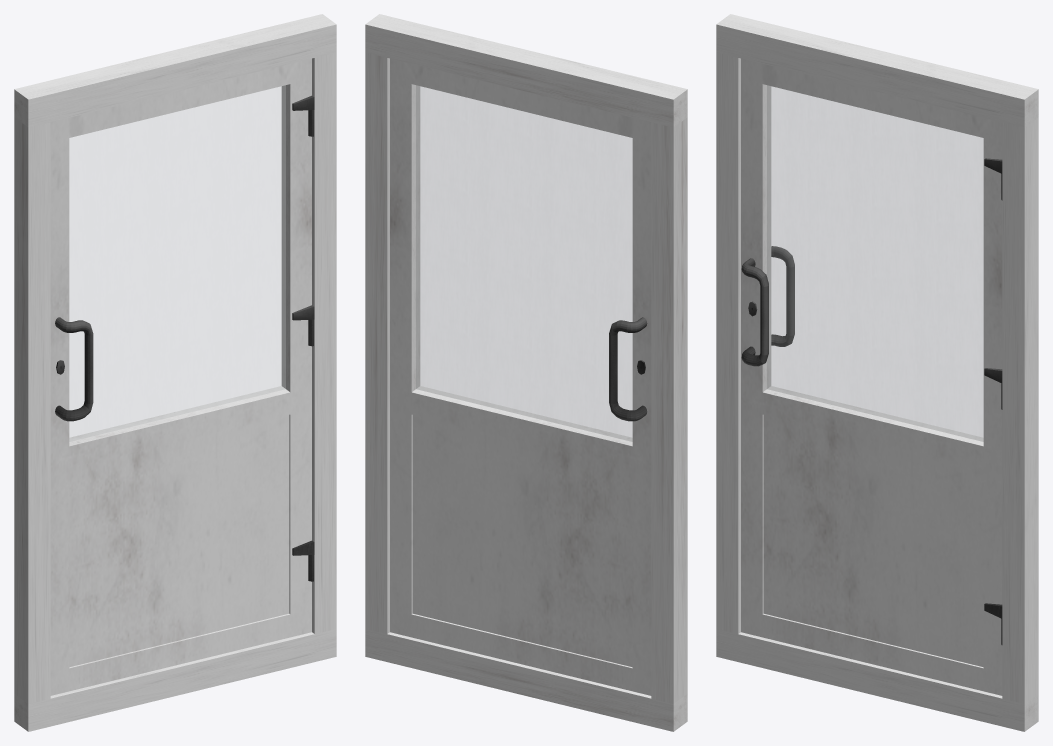
File: white_door_1.glb
3 renders of one model, left to right at view 1: azimuth 30°, elevation 25°; view 2: azimuth 150°, elevation 25°; view 3: azimuth 330°, elevation 25°, orthographic.
Parts seen in each view (by area): view 1: Cube.015_1, Plane_12, Cube.010_0, Cylinder_6; view 2: Cube.015_1, Plane_12, Cube.010_0, Cylinder.017_8; view 3: Cube.015_1, Plane_12, Cube.010_0, Cylinder_6, Cylinder.017_8.
Part boxes in pixels (left/top/right/bottom): Cube.015_1: left=50, top=58, right=311, bottom=695; Plane_12: left=69, top=85, right=285, bottom=441; Cube.010_0: left=14, top=14, right=336, bottom=731; Cylinder_6: left=55, top=317, right=93, bottom=421; Cube.015_1: left=390, top=58, right=651, bottom=695; Plane_12: left=416, top=85, right=632, bottom=441; Cube.010_0: left=365, top=14, right=687, bottom=731; Cylinder.017_8: left=609, top=317, right=647, bottom=421; Cube.015_1: left=741, top=58, right=1002, bottom=695; Plane_12: left=767, top=85, right=983, bottom=441; Cube.010_0: left=716, top=14, right=1038, bottom=731; Cylinder_6: left=741, top=258, right=768, bottom=366; Cylinder.017_8: left=771, top=246, right=794, bottom=346.
Bounding box in the file's own units: 4.55 × 8.92 × 0.8015.
2 materials, 2 textured.
